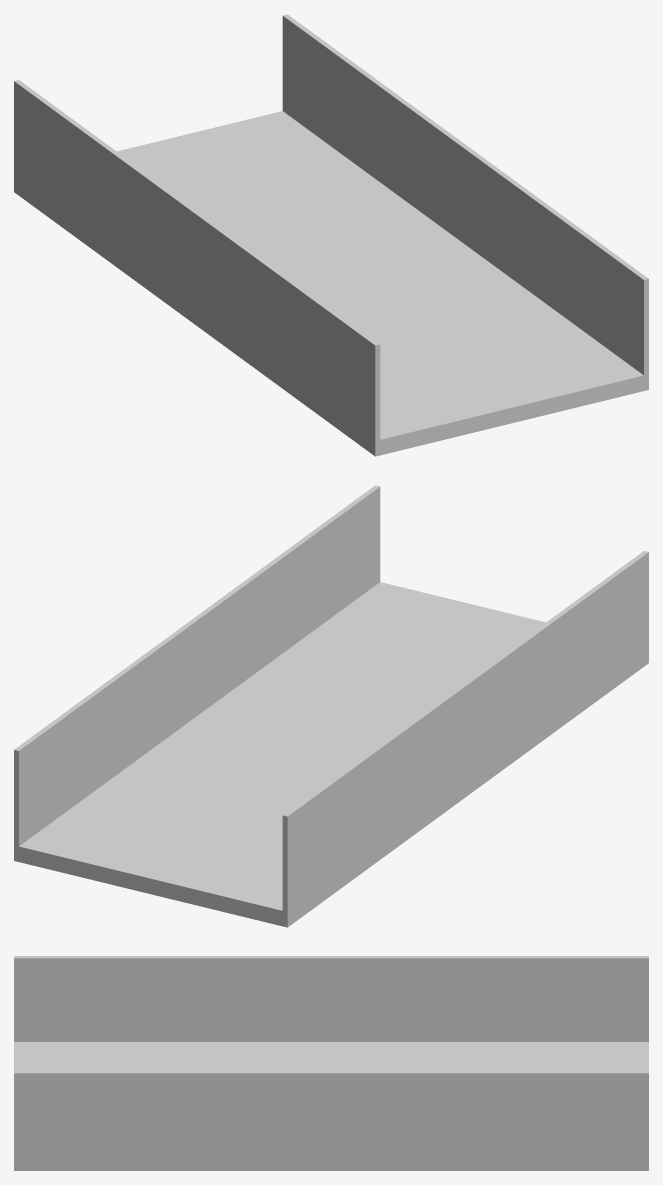
File: climb-skin-7.glb
3 views of the same model, one above another, from view 1: azimuth 30°, elevation 25°; view 2: azimuth 150°, elevation 25°; view 3: azimuth 270°, elevation 25° (orthographic). The views are drawn at different scales.
Parts seen in each view (by area): view 1: climb-skin-7; view 2: climb-skin-7; view 3: climb-skin-7.
Part boxes in pixels (<box>): climb-skin-7: <box>14,14,648,456</box>; climb-skin-7: <box>14,485,648,927</box>; climb-skin-7: <box>14,956,648,1170</box>.
Bounding box in the file's own units: 3.3 × 1.28 × 7.55.
Materials: 1 (1 with a texture image).
